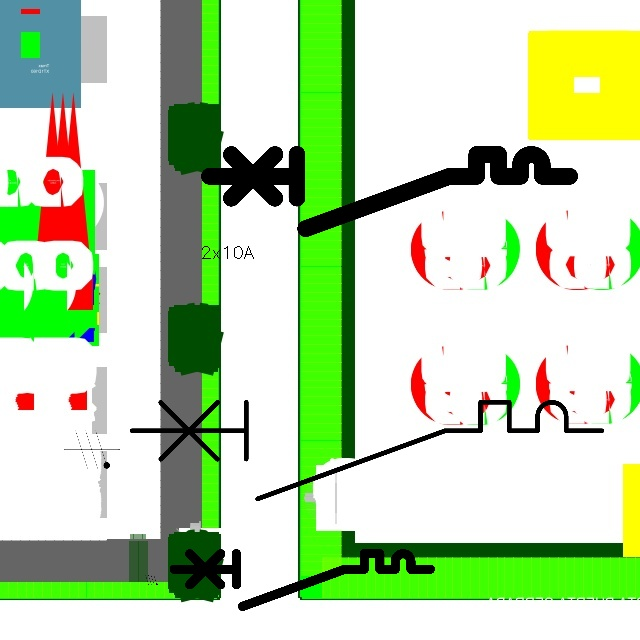interruptor_termomagnetico: (119, 390, 613, 511), (200, 145, 579, 237), (167, 547, 436, 613)
